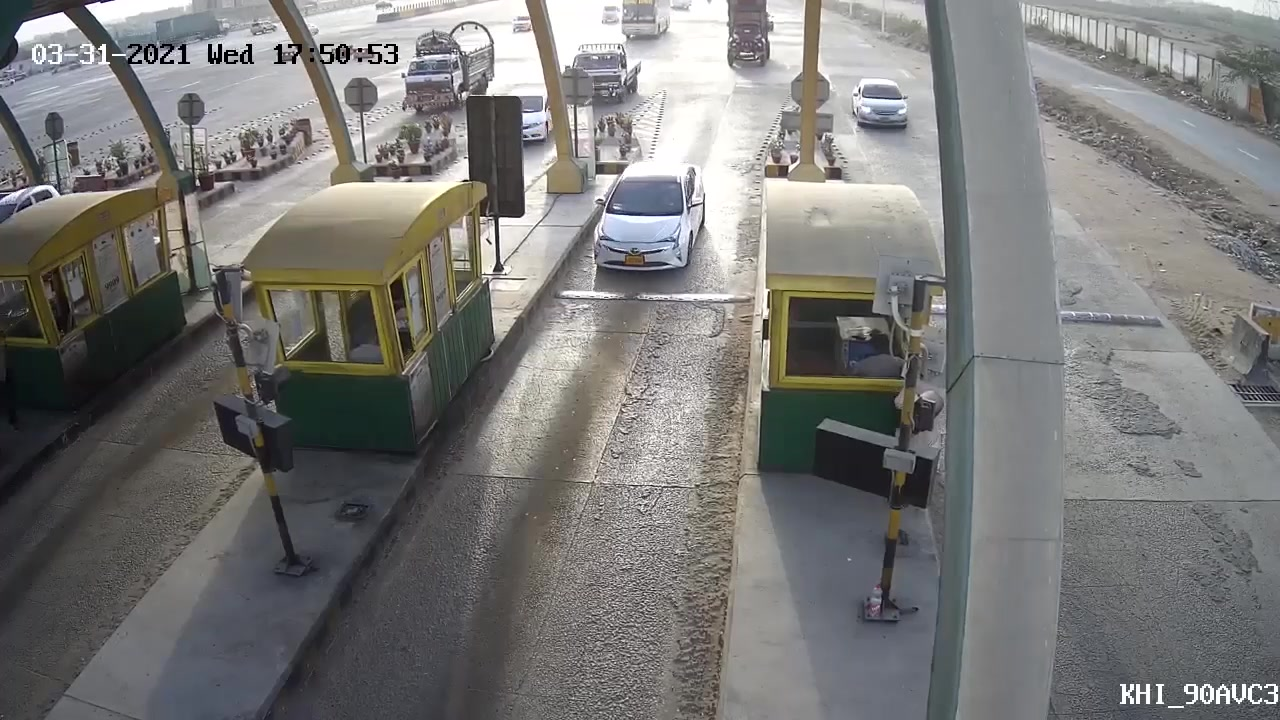F1: (574, 159, 707, 294)
